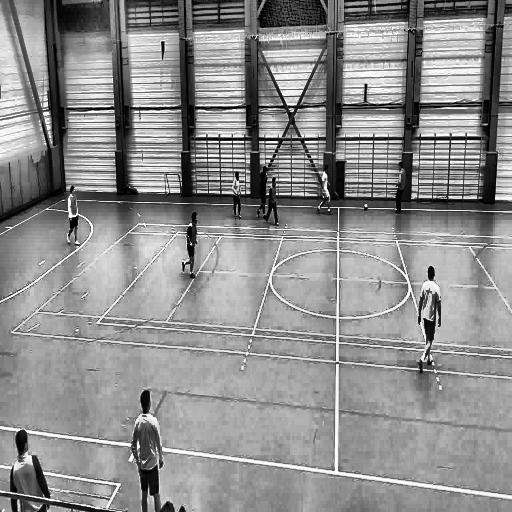ball: (362, 201, 370, 213)
player: (132, 386, 163, 512), (416, 266, 443, 376), (66, 182, 84, 249), (181, 210, 198, 280), (316, 166, 336, 214), (266, 176, 283, 228), (231, 167, 245, 220), (393, 162, 406, 216), (257, 163, 268, 222)
